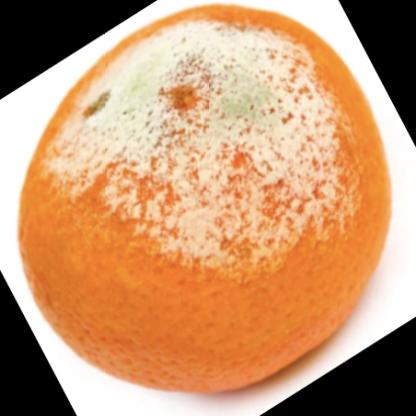rotten: (16, 4, 394, 397)
